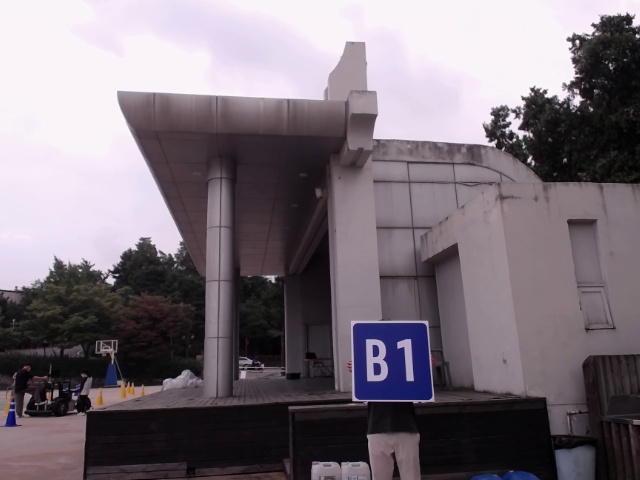delivery_b1: (351, 321, 434, 401)
